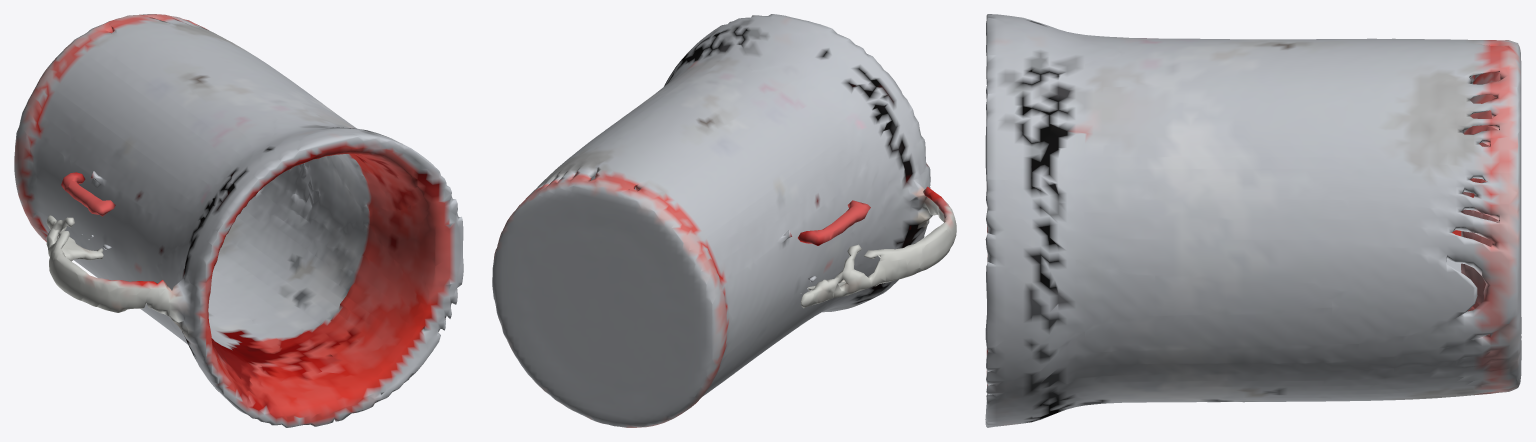
The model's file is a mug with contain affordance.obj.
3 renders of one model, left to right at view 1: azimuth 30°, elevation 25°; view 2: azimuth 150°, elevation 25°; view 3: azimuth 270°, elevation 25°, orthographic. The views are drawn at different scales.
Size of the model in its own units: 0.9447 by 0.7539 by 0.9829.
